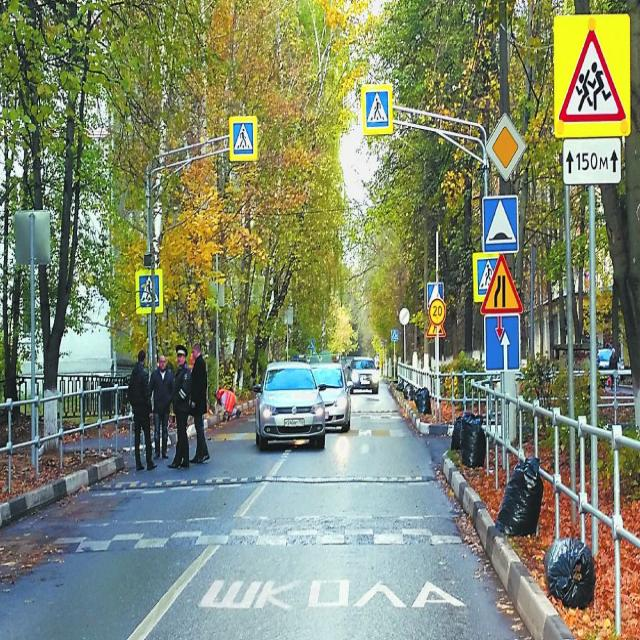Traffic sign: (553, 12, 631, 140), (484, 112, 527, 185), (558, 140, 622, 184), (482, 255, 524, 315), (15, 208, 52, 269), (481, 194, 519, 252), (482, 319, 522, 374), (360, 81, 392, 137), (229, 113, 256, 162), (136, 268, 162, 315), (430, 298, 446, 328), (397, 305, 411, 329)
